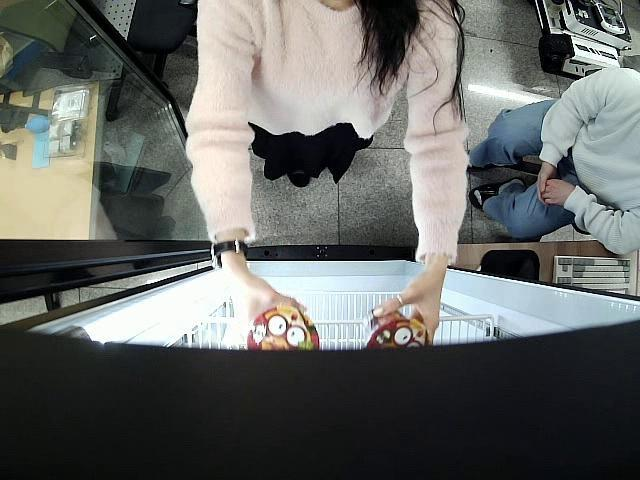06_nuguri_S: (247, 307, 320, 356), (363, 307, 432, 348)
